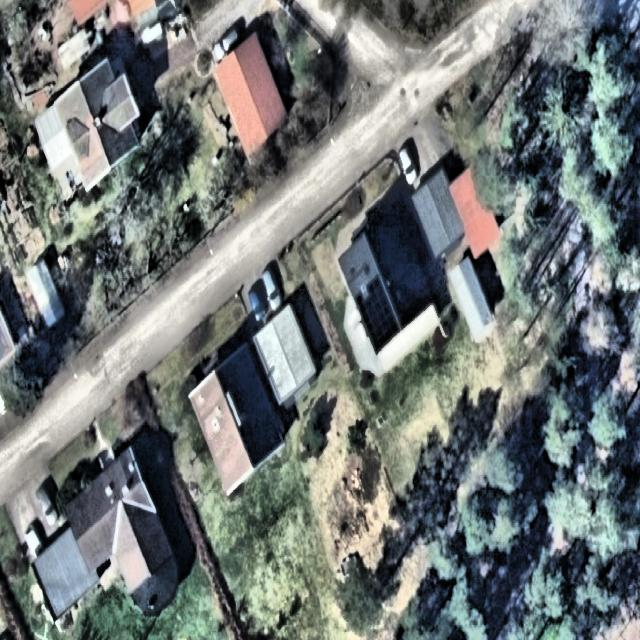roof_pv: (354, 274, 399, 358)
